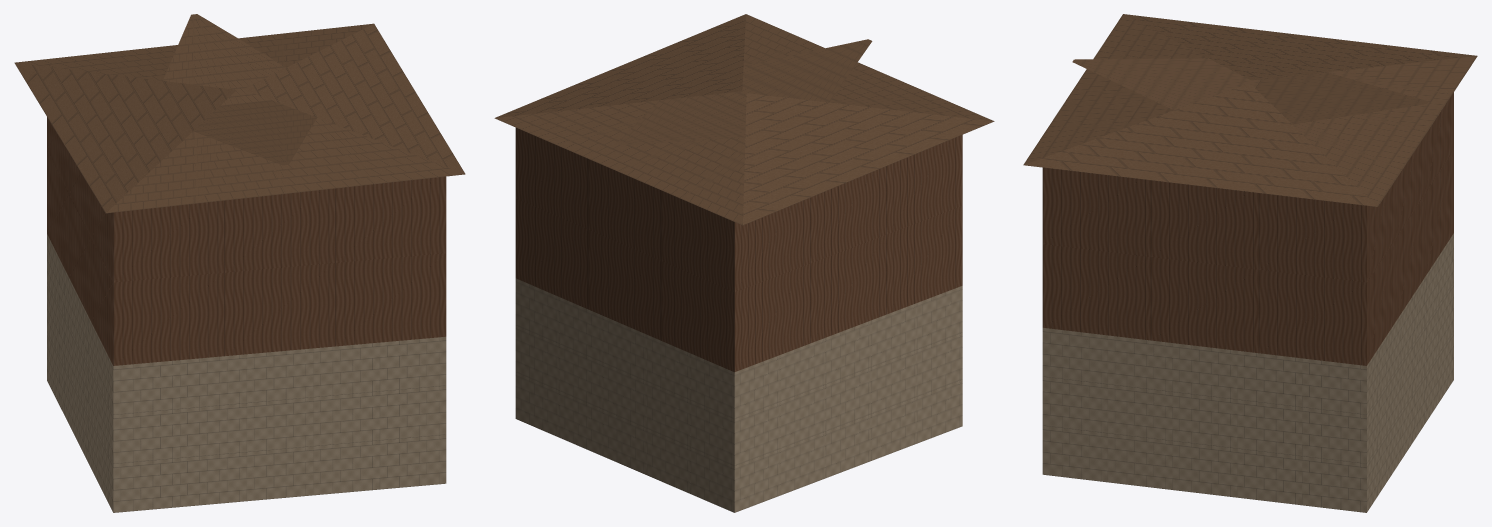
File: bld_c11_29_392.gltf
3 renders of one model, left to right at view 1: azimuth 30°, elevation 25°; view 2: azimuth 150°, elevation 25°; view 3: azimuth 270°, elevation 25°, orthographic. The views are drawn at different scales.
Visible parts, largest first — view 1: bld_c11_29_392; view 2: bld_c11_29_392; view 3: bld_c11_29_392.
Boxes of the visible parts, x1,y1,x2,y2 form: bld_c11_29_392: (14, 14, 465, 512); bld_c11_29_392: (494, 14, 994, 512); bld_c11_29_392: (1023, 14, 1477, 512).
Bounding box in the file's own units: 14.37 × 11.9 × 14.3.
3 materials, 3 textured.
